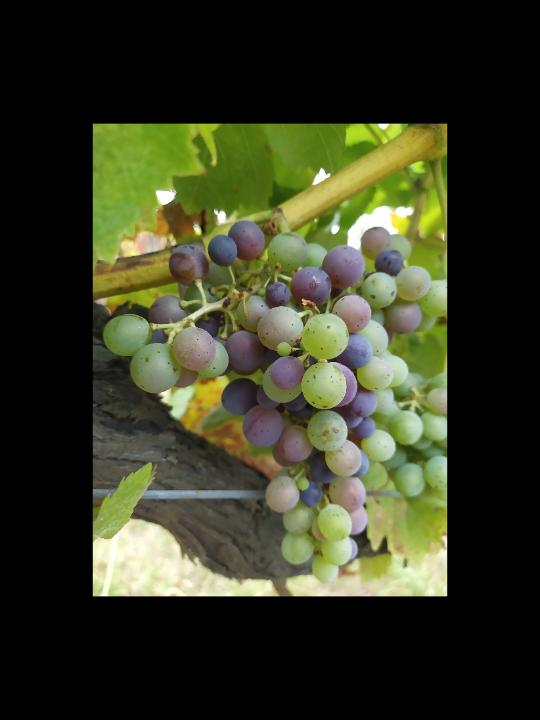grape: (101, 221, 447, 585)
